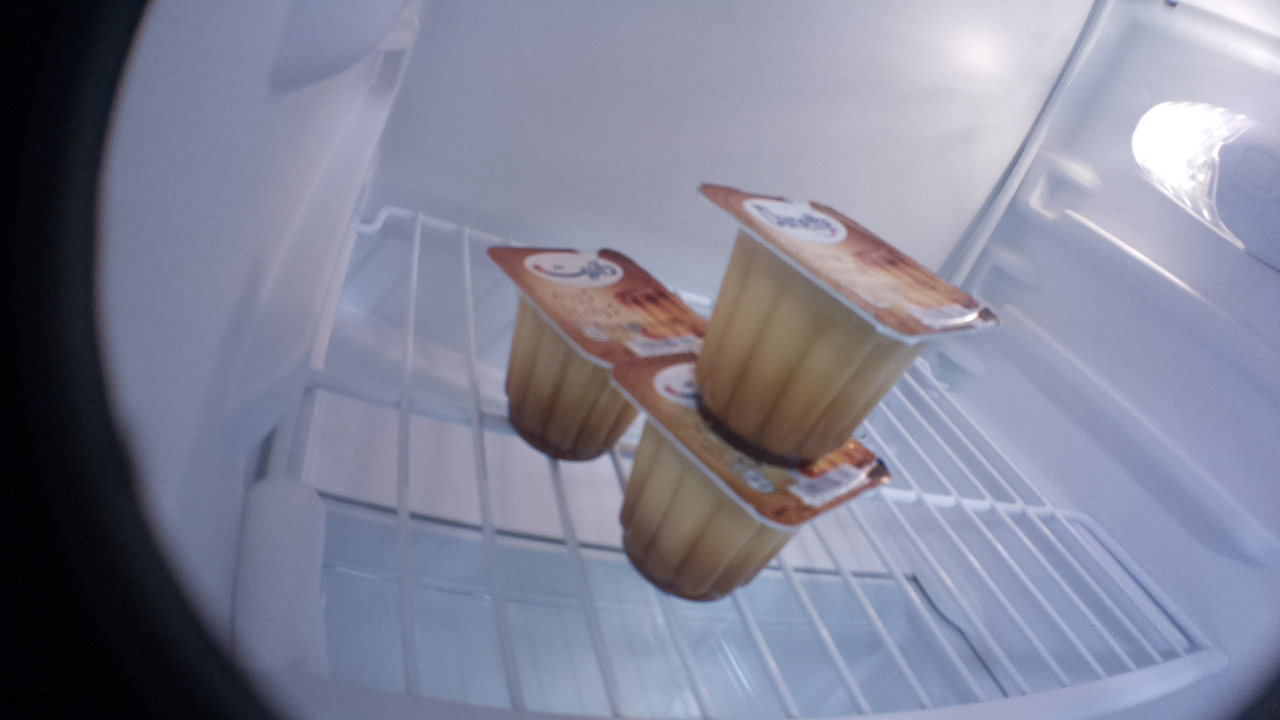caramel: (693, 178, 1002, 468), (605, 365, 892, 607), (484, 243, 693, 461)
